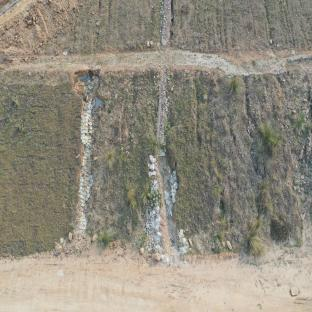slope_drain: (145, 70, 172, 251), (72, 70, 101, 236), (162, 0, 173, 45)
